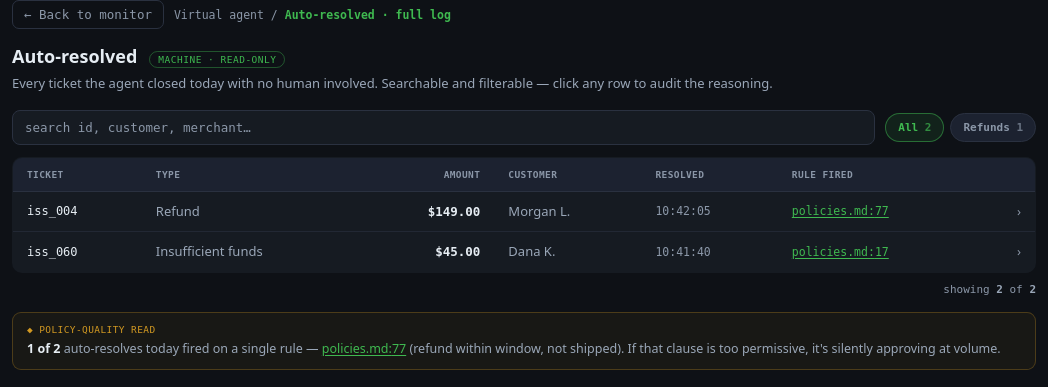
Scenario: DrillPage › filters rows when a category chip is chosen
Expected: the text "iss_004" is shown, [12,191,142,232]
Expected: the text "iss_060" is shown, [12,232,142,272]
Click the button "Refunds 1" at (993, 127), box [950,112,1036,142]
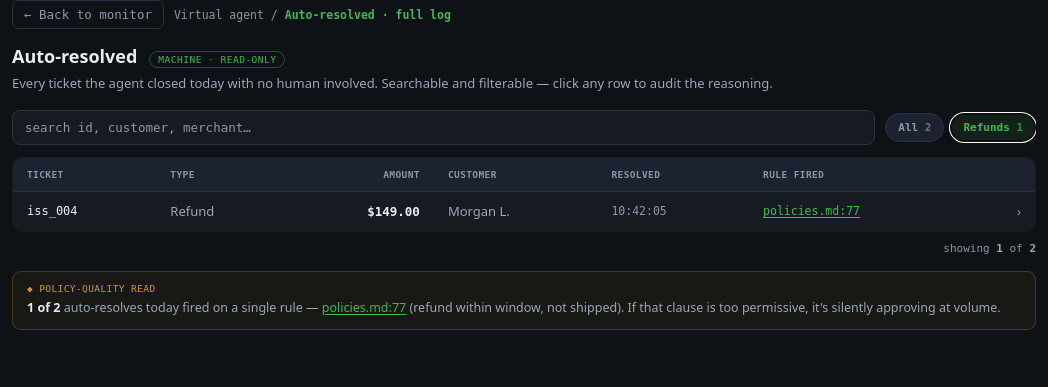
Expected: the text "iss_004" is shown, [12,191,156,232]
Result: the text "iss_060" is gone
